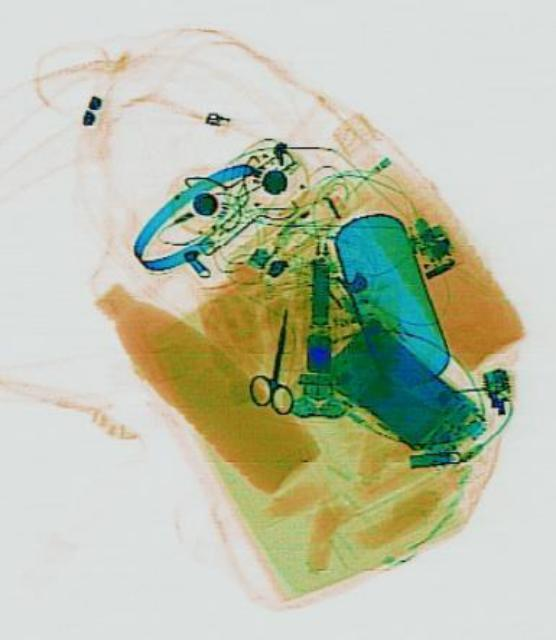Scissors: (243, 303, 305, 415)
